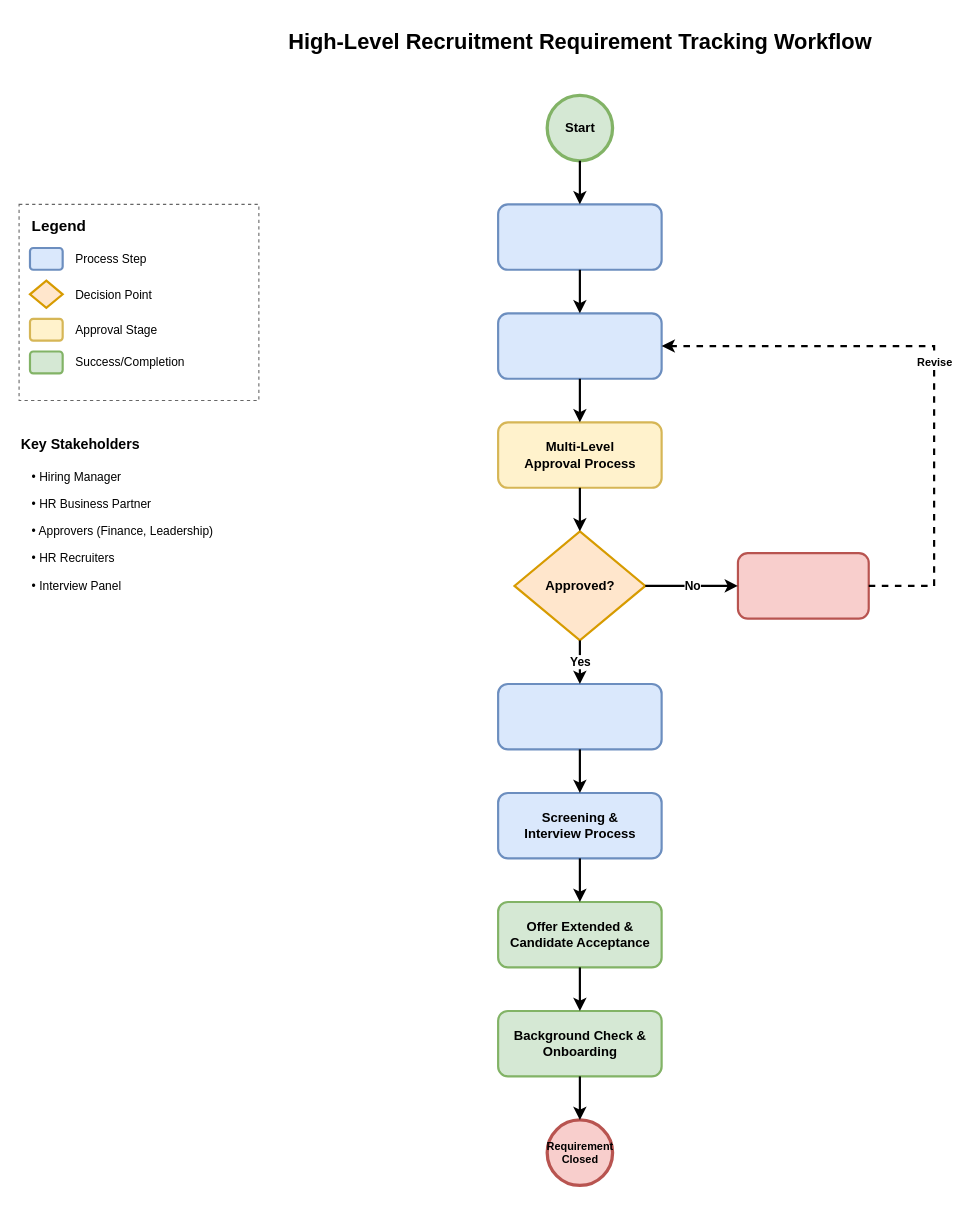
This 970x1206 diagram has some shape labels left out. Each missing label, with the centre of its shape:
"Create Hiring Requirement" belongs at pixel 579 345.
"Hiring Need Identification" belongs at pixel 579 236.
"Job Posting & Candidate Sourcing" belongs at pixel 579 716.
"Requirement Rejected/Revised" belongs at pixel 802 585.
